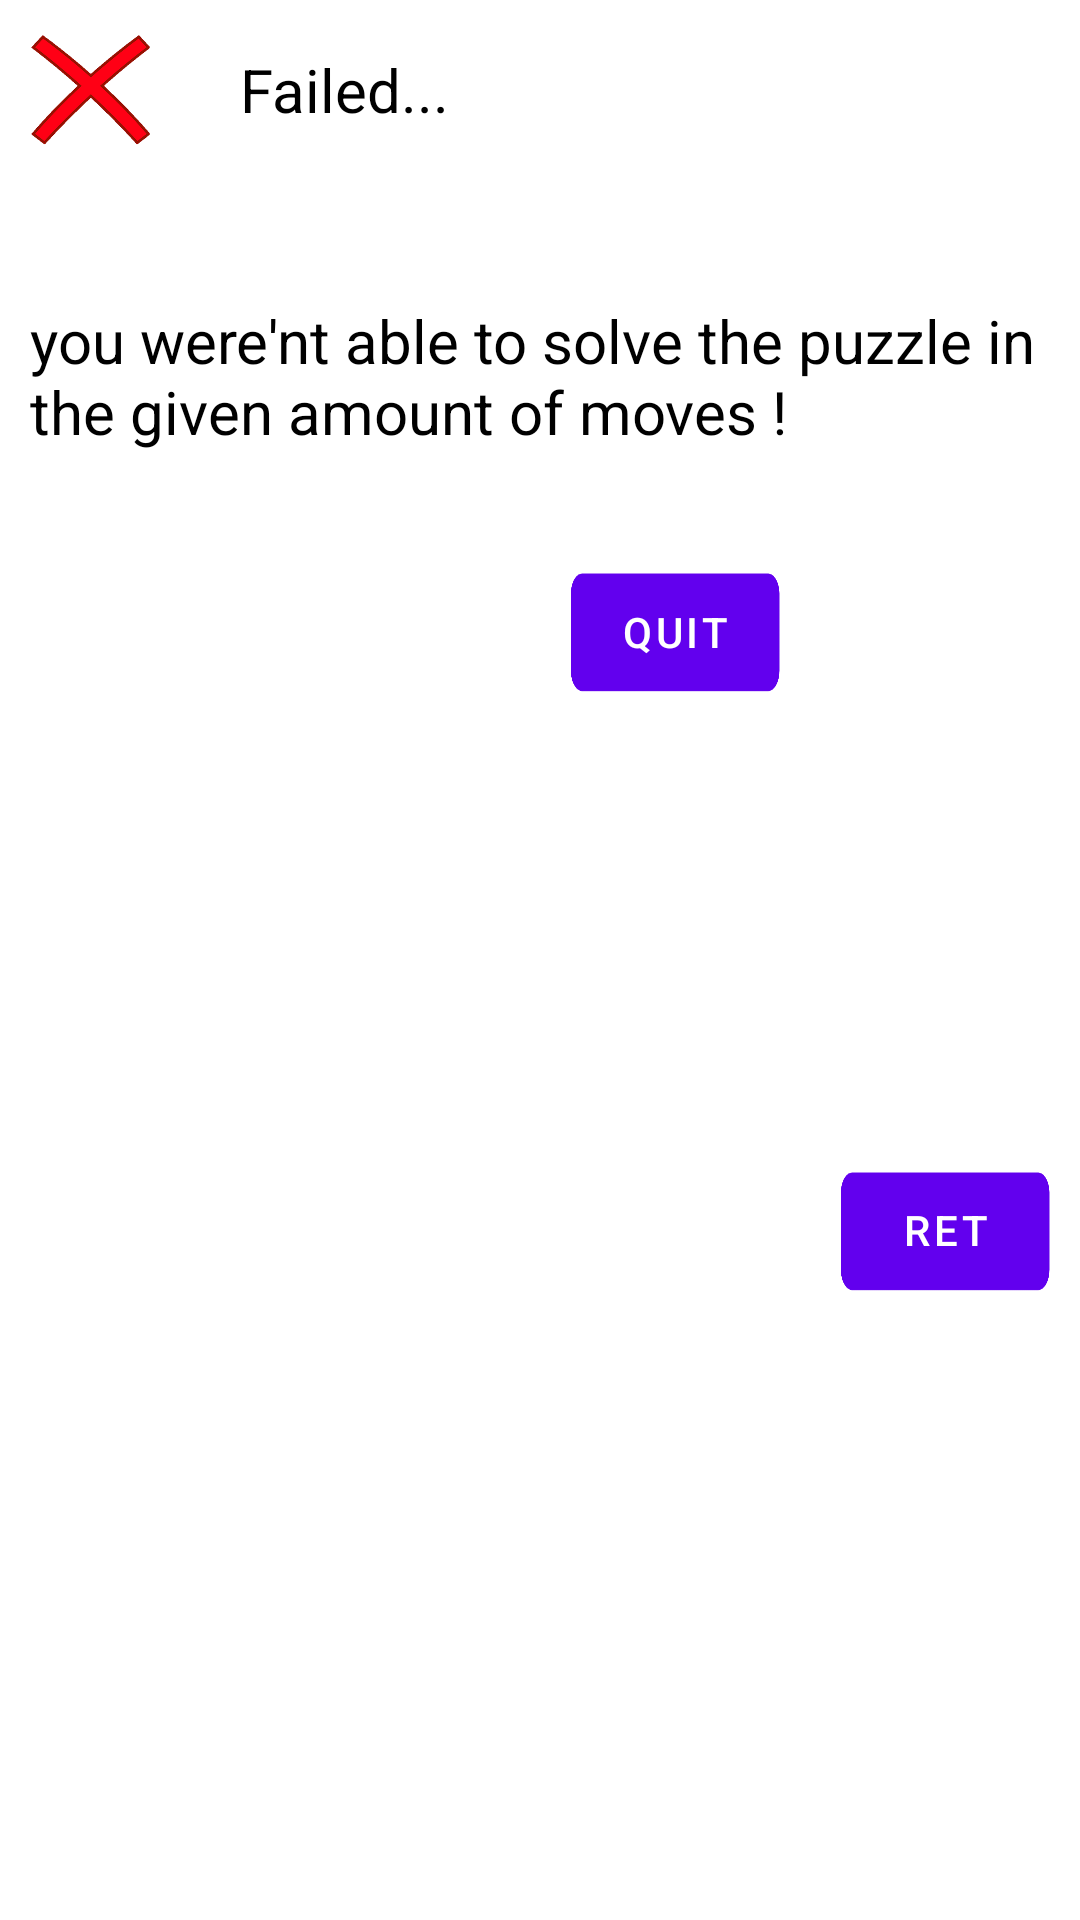

Icon bounding boxes for this 1080 x 1920 phone screenshot, format (x1, y1, x2, y2):
error: (31, 35, 150, 144)
